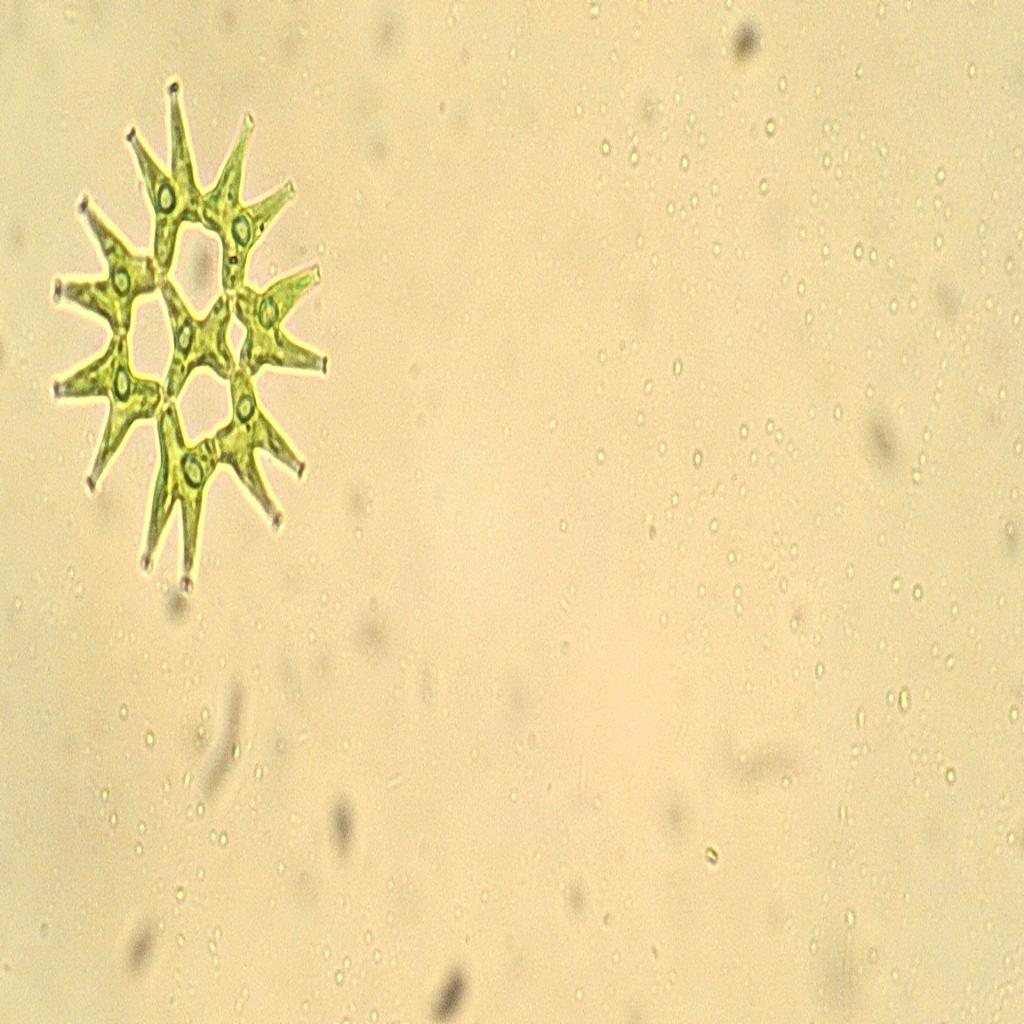Pediastrum_CTH: (44, 60, 337, 611)
